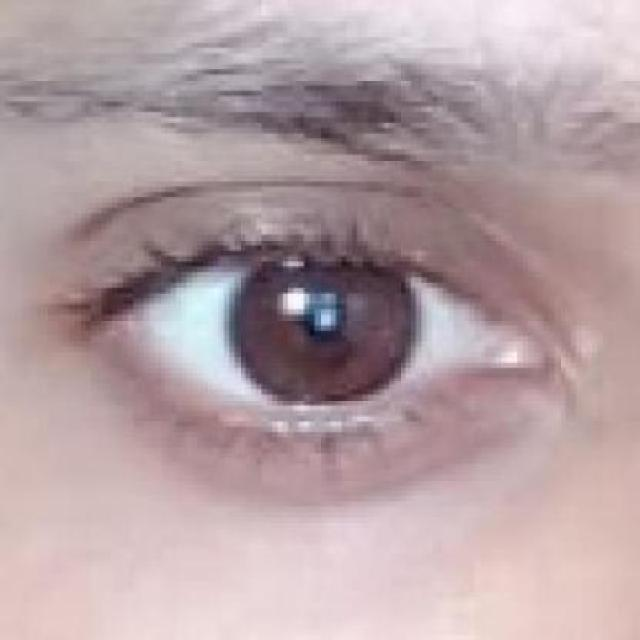awake: (102, 192, 549, 459)
